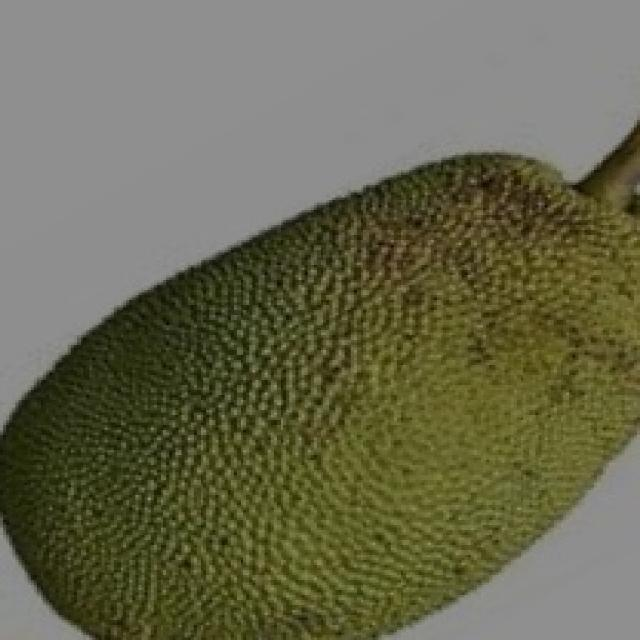Fruit: (0, 237, 391, 640), (218, 128, 640, 420)
